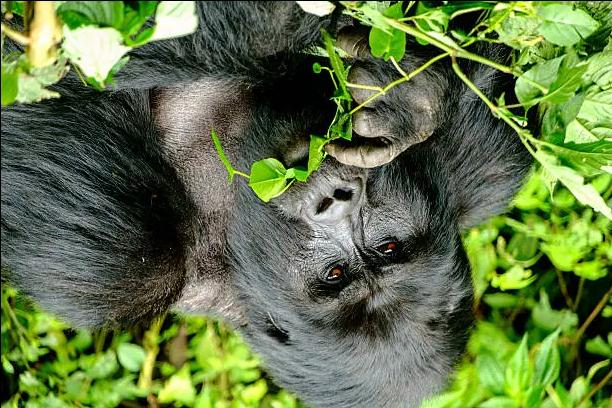goriile_montagne: (0, 0, 535, 408)
